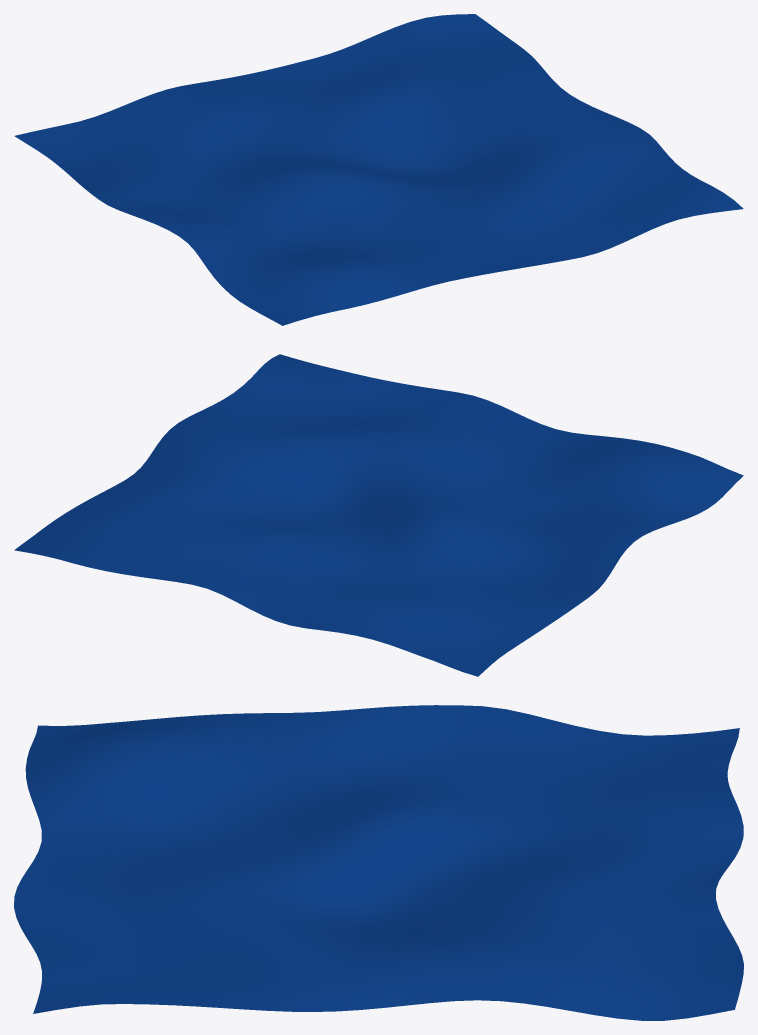
File: wave_8.obj
3 views of the same model, one above another, from view 1: azimuth 30°, elevation 25°; view 2: azimuth 150°, elevation 25°; view 3: azimuth 270°, elevation 25° (orthographic). The views are drawn at different scales.
Visible parts, largest first — view 1: Plane001; view 2: Plane001; view 3: Plane001.
Part boxes in pixels (x1,y1,x2,y2): Plane001: [14, 14, 743, 325]; Plane001: [14, 354, 743, 676]; Plane001: [14, 705, 743, 1020].
Size of the model in its own units: 409 by 18.54 by 409.
